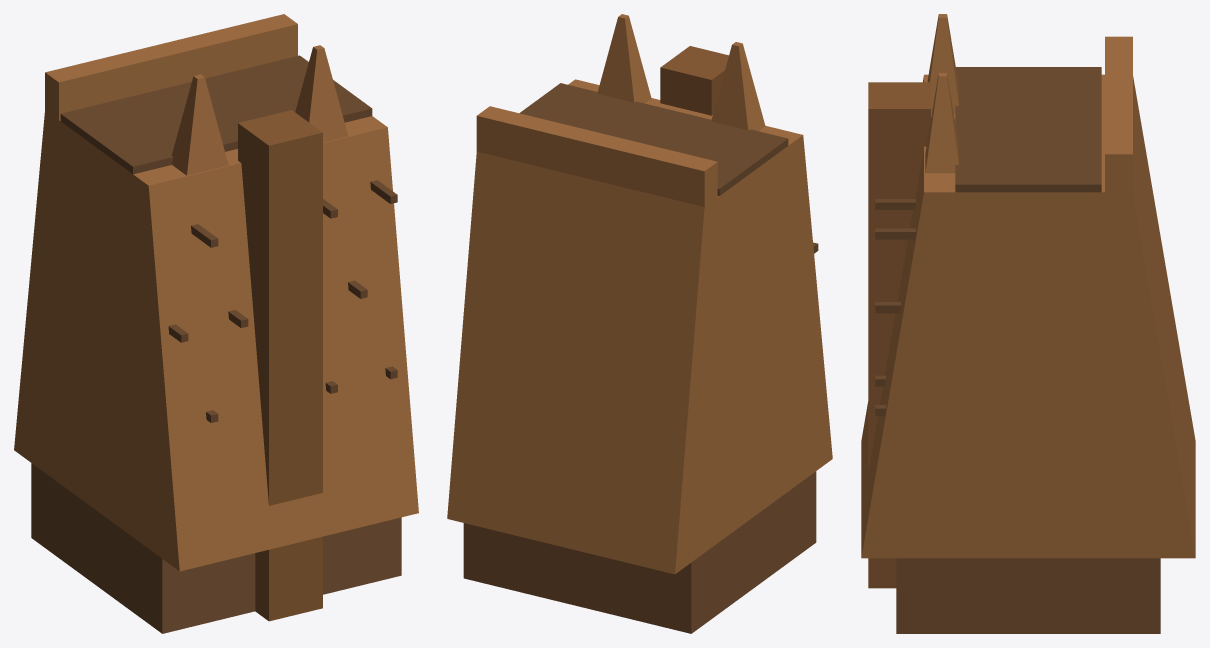
Rendered from wall.glb.
The picture shows the model from 3 angles, left to right: view 1: azimuth 30°, elevation 25°; view 2: azimuth 150°, elevation 25°; view 3: azimuth 270°, elevation 25°; orthographic projection. The views are drawn at different scales.
Visible parts, largest first — view 1: Wall; view 2: Wall; view 3: Wall.
Boxes of the visible parts, bbox=[...] form: Wall: bbox=[14, 14, 418, 633]; Wall: bbox=[447, 14, 832, 633]; Wall: bbox=[861, 14, 1195, 633].
Bounding box in the file's own units: 4 × 8.4 × 4.8.
